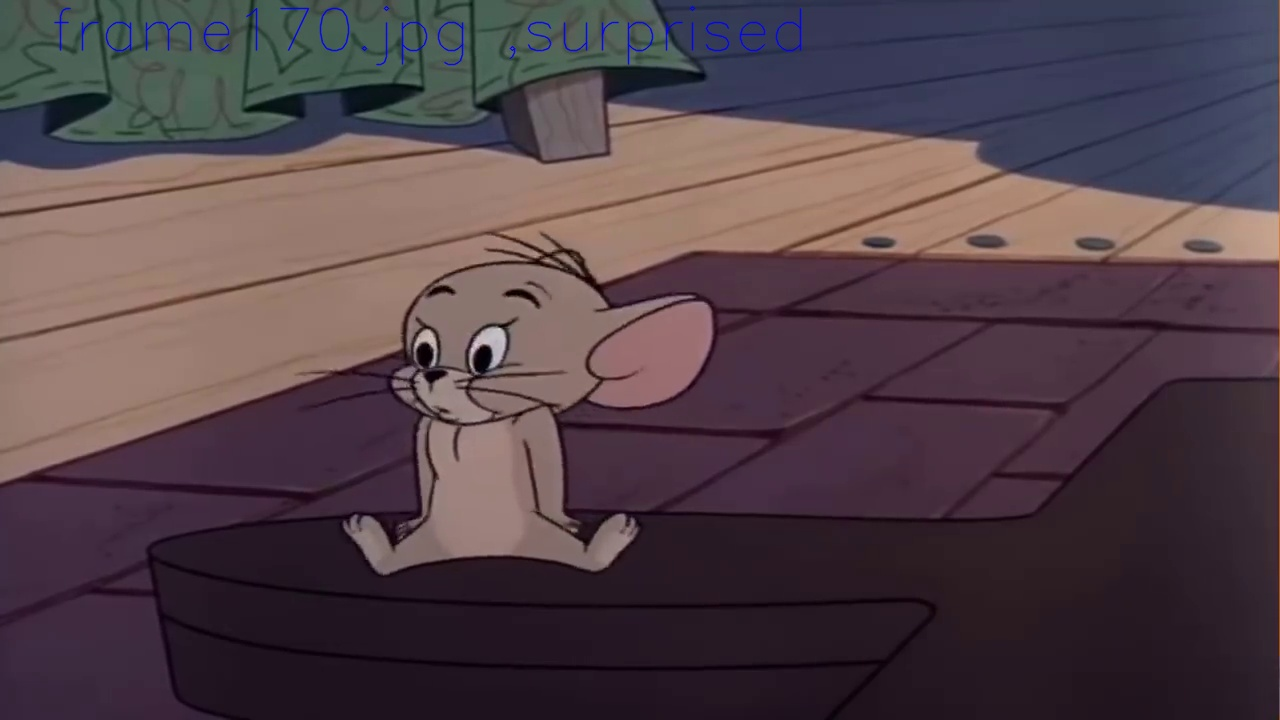surprised: (412, 287, 543, 424)
